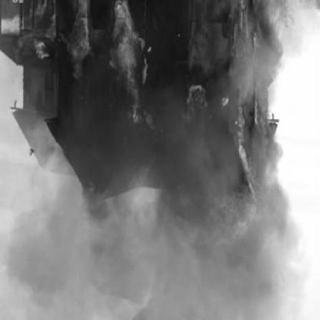Fire: (20, 4, 282, 254)
